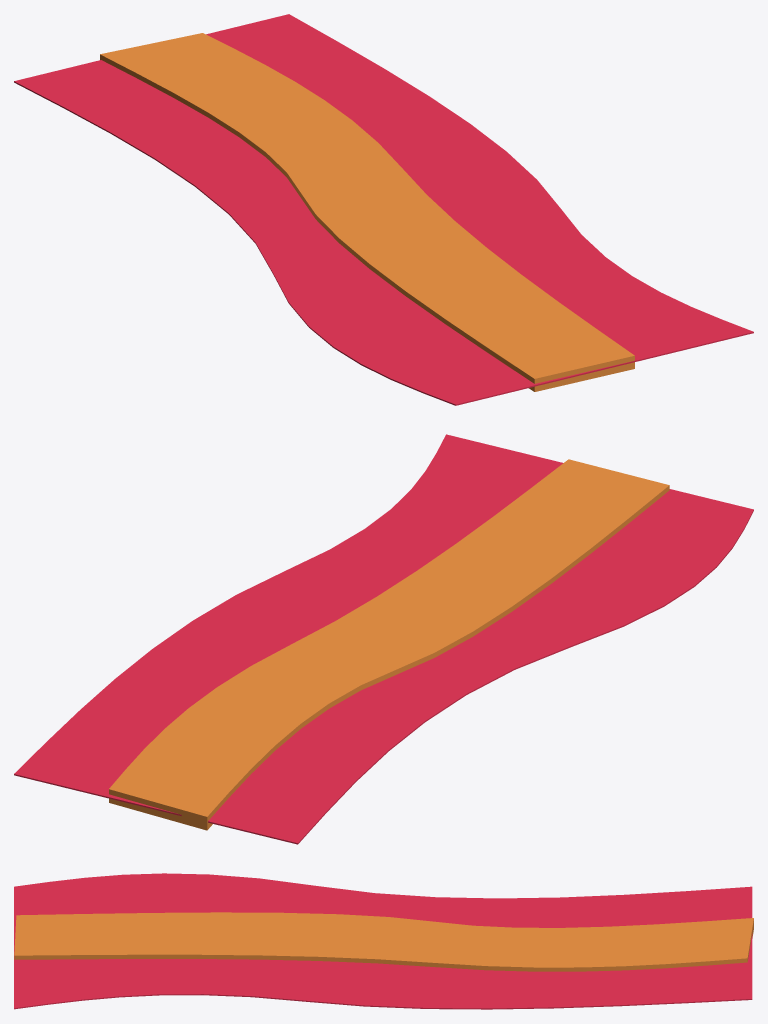
File: Bacon.FBX
3 renders of one model, top to bottom at view 1: azimuth 30°, elevation 25°; view 2: azimuth 150°, elevation 25°; view 3: azimuth 270°, elevation 25°, orthographic. The views are drawn at different scales.
Visible parts, largest first — view 1: Line001, Line002; view 2: Line001, Line002; view 3: Line001, Line002.
Boxes of the visible parts, left/top/right/bottom form: Line001: left=14, top=14, right=753, bottom=405; Line002: left=100, top=33, right=634, bottom=391; Line001: left=14, top=434, right=753, bottom=844; Line002: left=109, top=459, right=669, bottom=830; Line001: left=14, top=873, right=752, bottom=1009; Line002: left=14, top=912, right=753, bottom=971.
Bounding box in the file's own units: 2.61 × 0.1 × 6.06.
